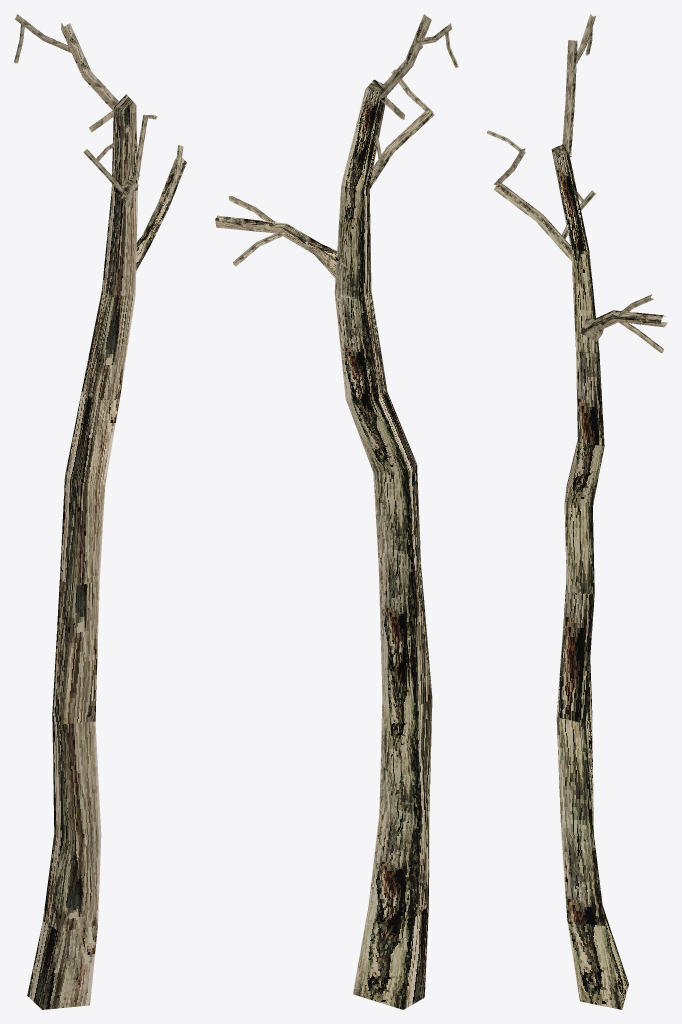
Rendered from stage-maya-p4-70.glb.
3 views of the same model, side by side, from view 1: azimuth 30°, elevation 25°; view 2: azimuth 150°, elevation 25°; view 3: azimuth 270°, elevation 25° (orthographic). The views are drawn at different scales.
Bounding box in the file's own units: 5.58 × 25.41 × 4.35.
Materials: 1 (1 with a texture image).
